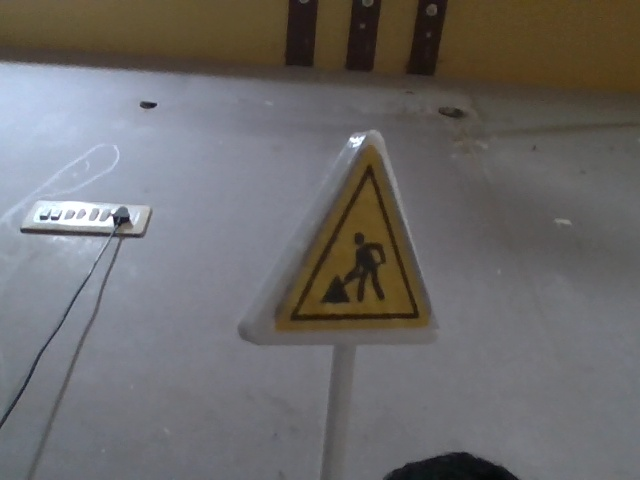workinprogress: (238, 129, 432, 350)
